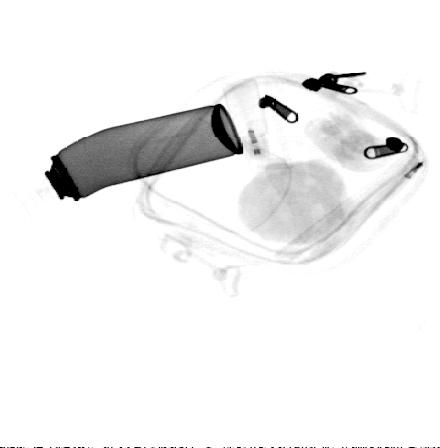Sprayer: (8, 102, 245, 228)
